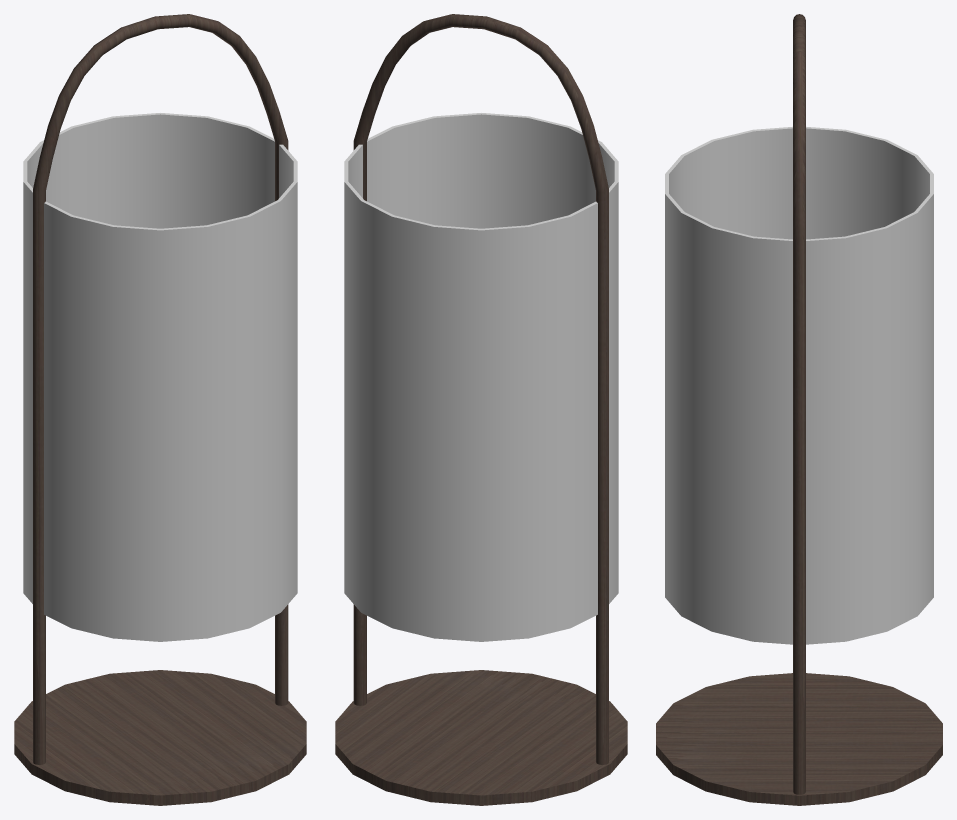
The model's file is Lamp.FBX.
3 views of the same model, side by side, from view 1: azimuth 30°, elevation 25°; view 2: azimuth 150°, elevation 25°; view 3: azimuth 270°, elevation 25° (orthographic).
Parts seen in each view (by area): view 1: Cylinder001, Cylinder002; view 2: Cylinder001, Cylinder002; view 3: Cylinder001, Cylinder002.
Boxes of the visible parts, bbox=[...] form: Cylinder001: bbox=[23, 113, 297, 641]; Cylinder002: bbox=[14, 14, 306, 805]; Cylinder001: bbox=[344, 113, 618, 641]; Cylinder002: bbox=[335, 14, 627, 805]; Cylinder001: bbox=[665, 126, 933, 644]; Cylinder002: bbox=[656, 14, 942, 805].
Bounding box in the file's own units: 22.53 × 60.86 × 22.19.
Materials: 2 (1 with a texture image).
